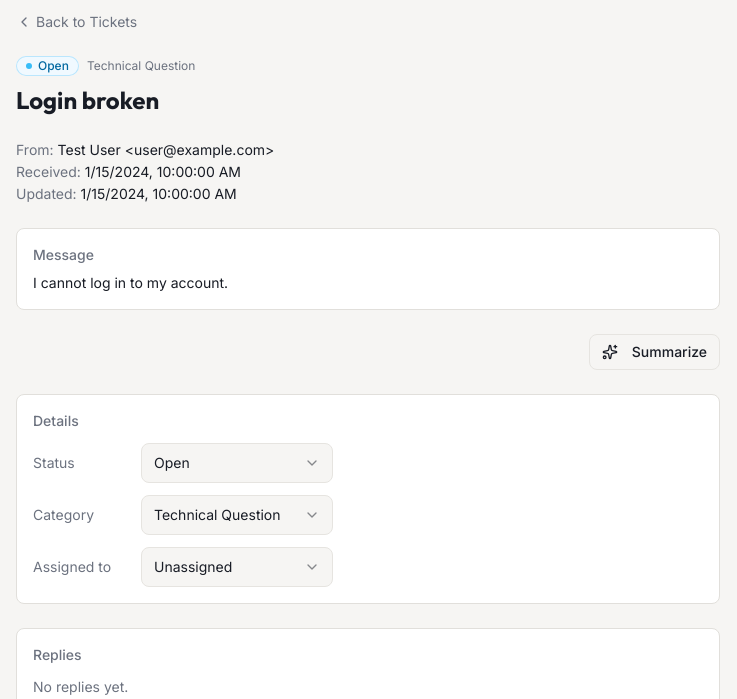
Test case: TicketDetailPage — status and category › shows the Save button after changing status
Expected: the heading "Login broken" is shown, [16,85,159,115]
Click the dropdown labelled "Open" at (237, 463), box [141,443,333,483]
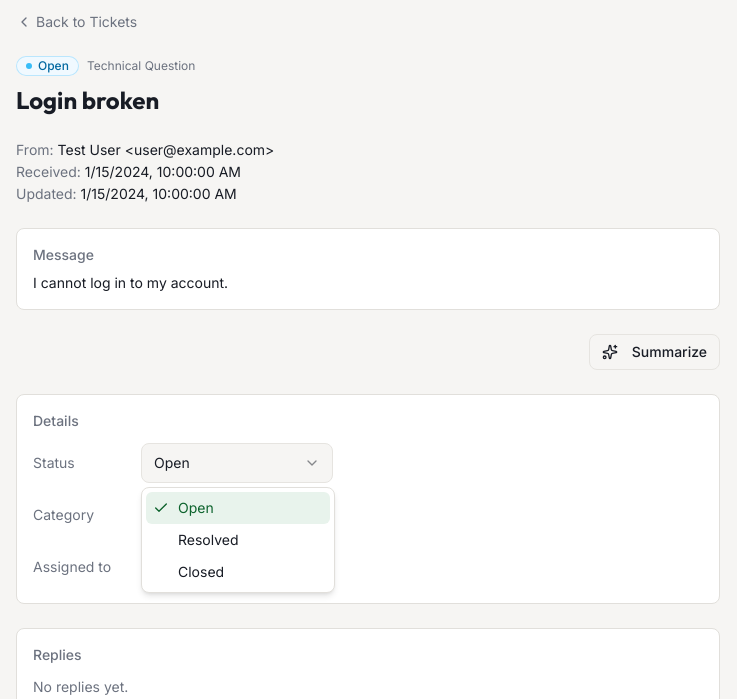
Click the option "Resolved" at (208, 540), box [178,531,238,548]
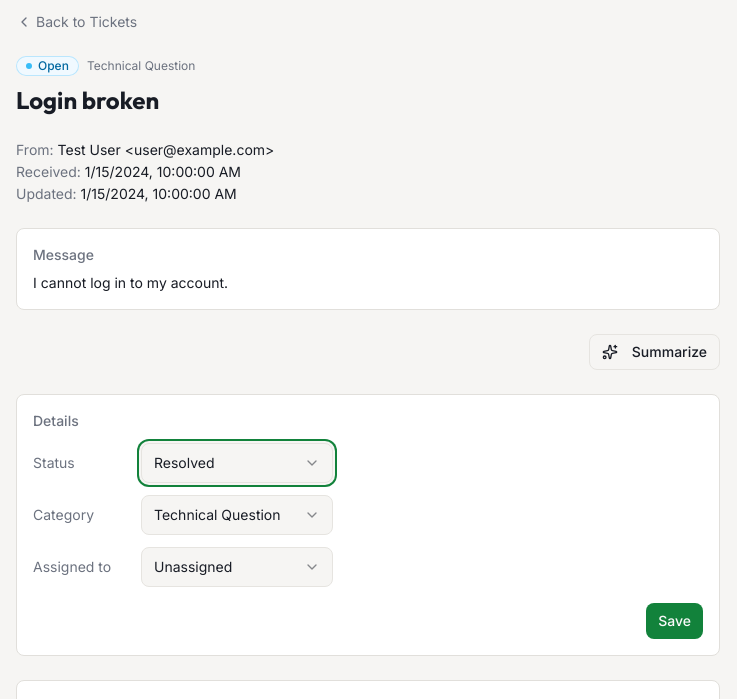
Expected: the button "Save" is shown, [646,603,703,639]
